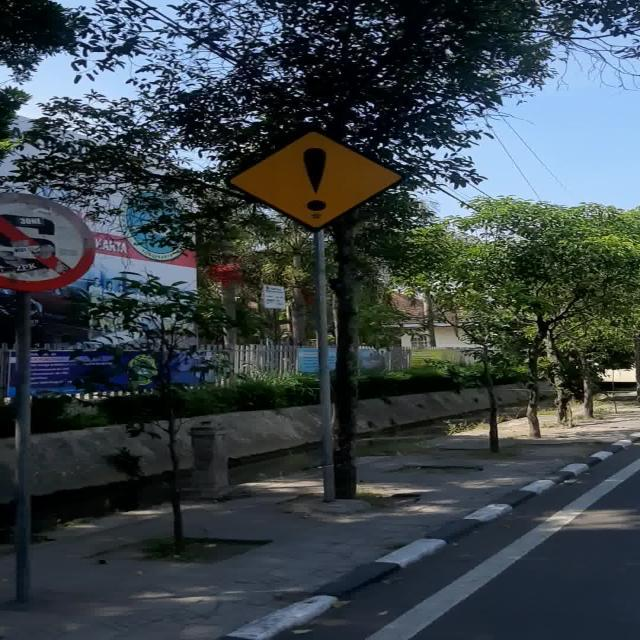Hati-Hati: (224, 128, 406, 230)
